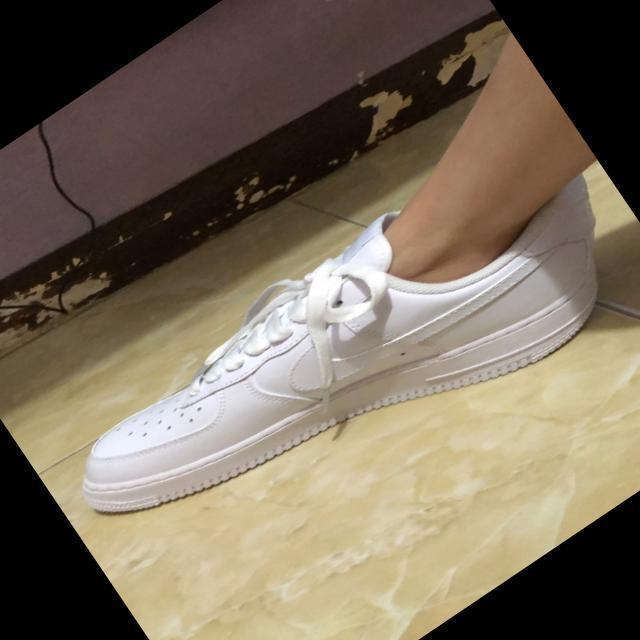nike original air force: (36, 106, 640, 622)
